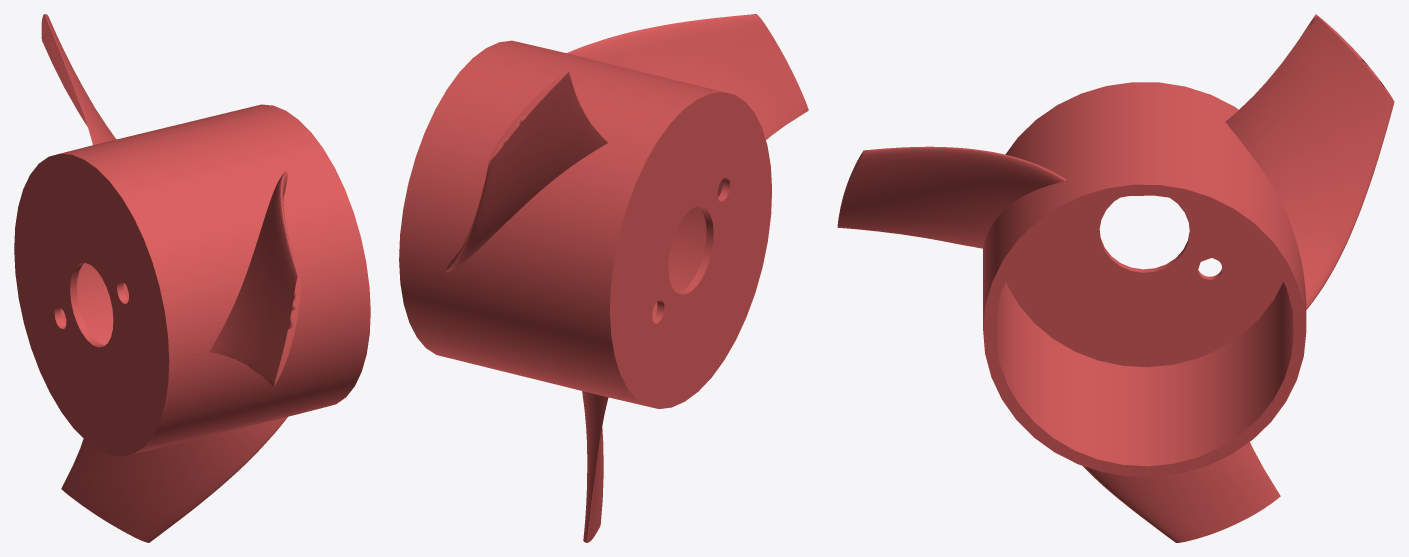
File: VLS.glb
3 views of the same model, side by side, from view 1: azimuth 30°, elevation 25°; view 2: azimuth 150°, elevation 25°; view 3: azimuth 270°, elevation 25° (orthographic). The views are drawn at different scales.
Visible parts, largest first — view 1: CAD_material_0; view 2: CAD_material_0; view 3: CAD_material_0.
Part boxes in pixels (bbox=[...]): CAD_material_0: bbox=[14, 14, 370, 542]; CAD_material_0: bbox=[399, 14, 808, 542]; CAD_material_0: bbox=[837, 14, 1394, 542].
Bounding box in the file's own units: 0.03 × 0.0696 × 0.0689.
